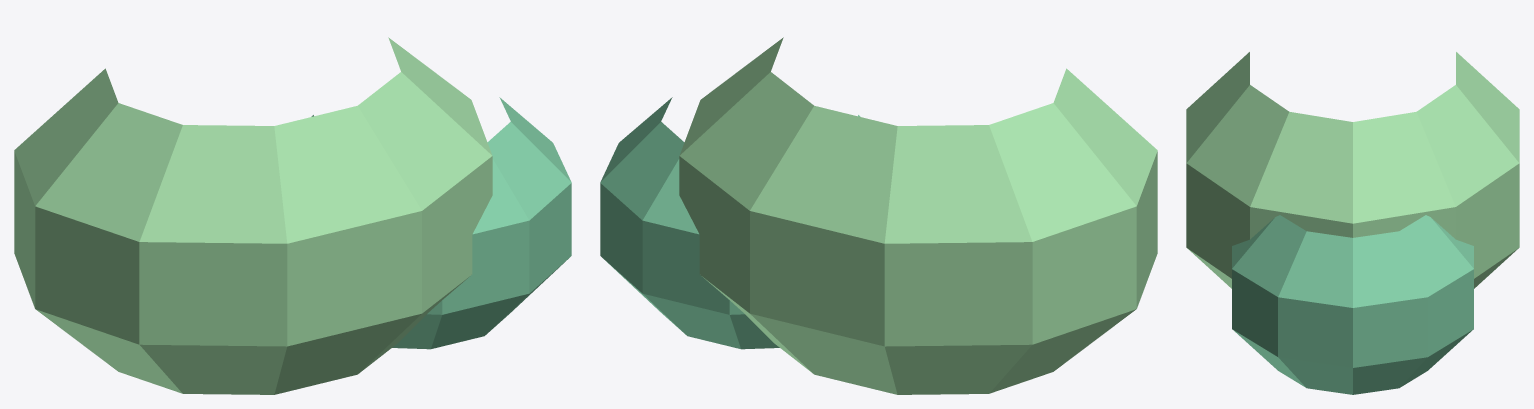
Rendered from 14_bush.glb.
The picture shows the model from 3 angles, left to right: view 1: azimuth 30°, elevation 25°; view 2: azimuth 150°, elevation 25°; view 3: azimuth 270°, elevation 25°; orthographic projection. The views are drawn at different scales.
Parts seen in each view (by area): view 1: 14_bush; view 2: 14_bush; view 3: 14_bush.
Boxes of the visible parts, bbox=[...] form: 14_bush: bbox=[14, 37, 571, 394]; 14_bush: bbox=[600, 37, 1157, 394]; 14_bush: bbox=[1186, 52, 1519, 394].
Size of the model in its own units: 1.47 by 0.8141 by 0.995.
